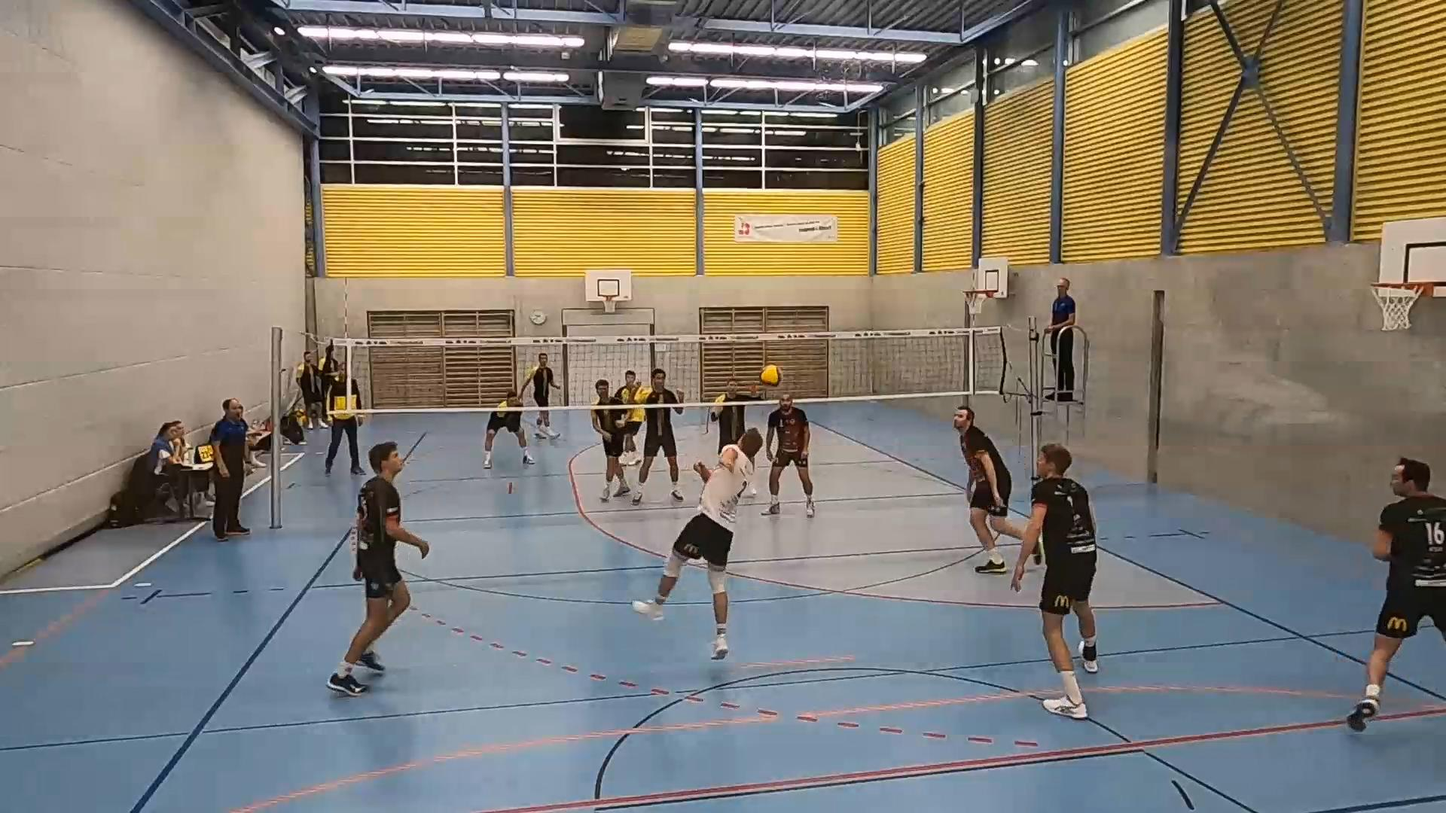Player: (1347, 458, 1445, 729), (328, 441, 429, 695), (1011, 443, 1097, 719), (953, 406, 1021, 574), (632, 368, 684, 504), (763, 393, 815, 516), (591, 379, 629, 501), (709, 377, 761, 452), (484, 390, 534, 468), (523, 353, 560, 439), (620, 407, 645, 465)
Receive: (632, 430, 767, 674)
ball: (761, 365, 786, 384)
